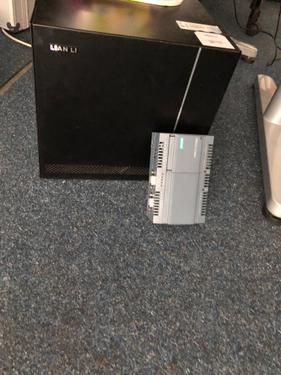device: (147, 132, 215, 225)
